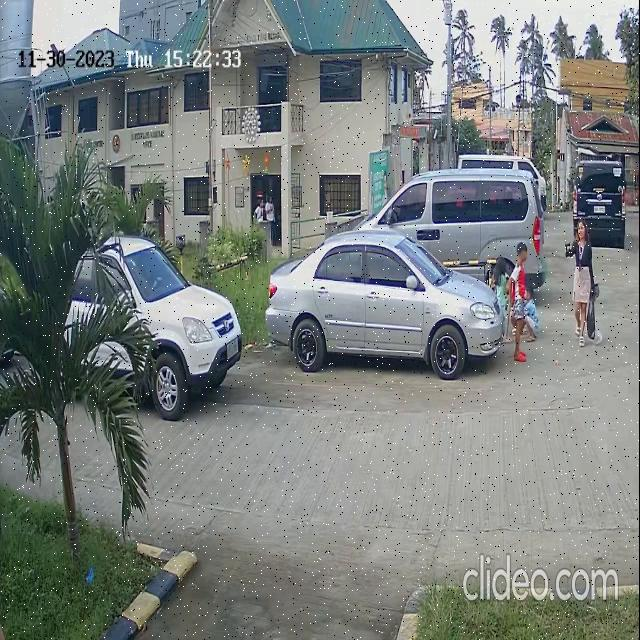garbage_dumping: (578, 284, 604, 340)
